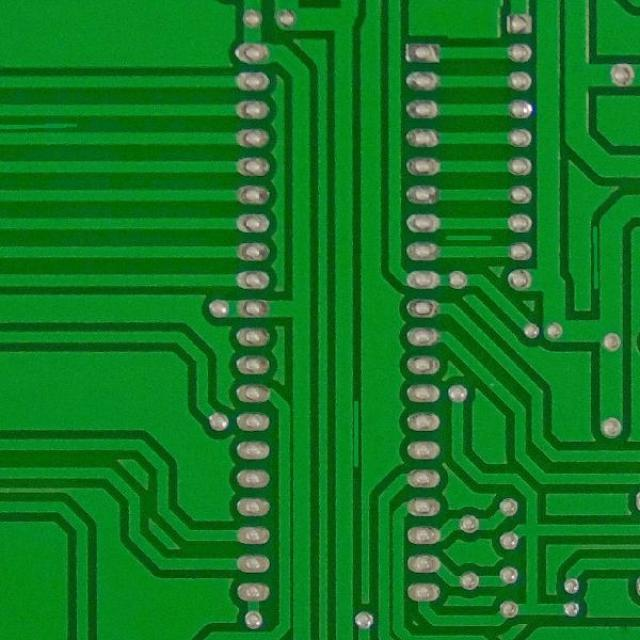spurious_copper: (346, 397, 368, 476), (584, 223, 607, 295), (1, 116, 81, 136), (444, 230, 496, 248)
